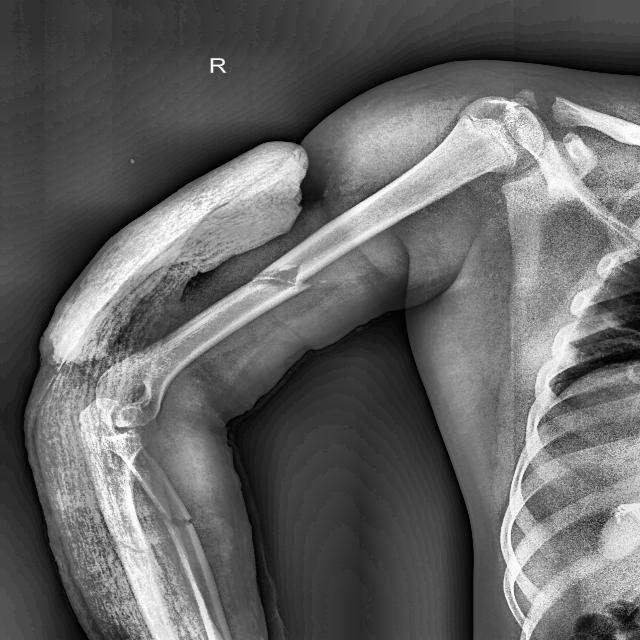Fracture: (226, 259, 332, 301)
